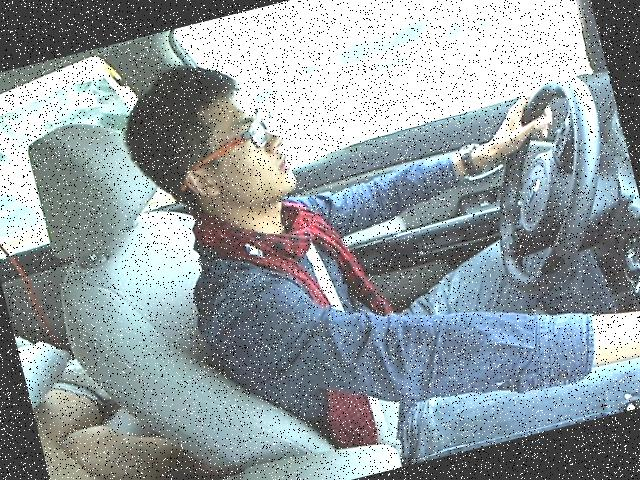c3 - Operating the Radio: (100, 0, 639, 479)
